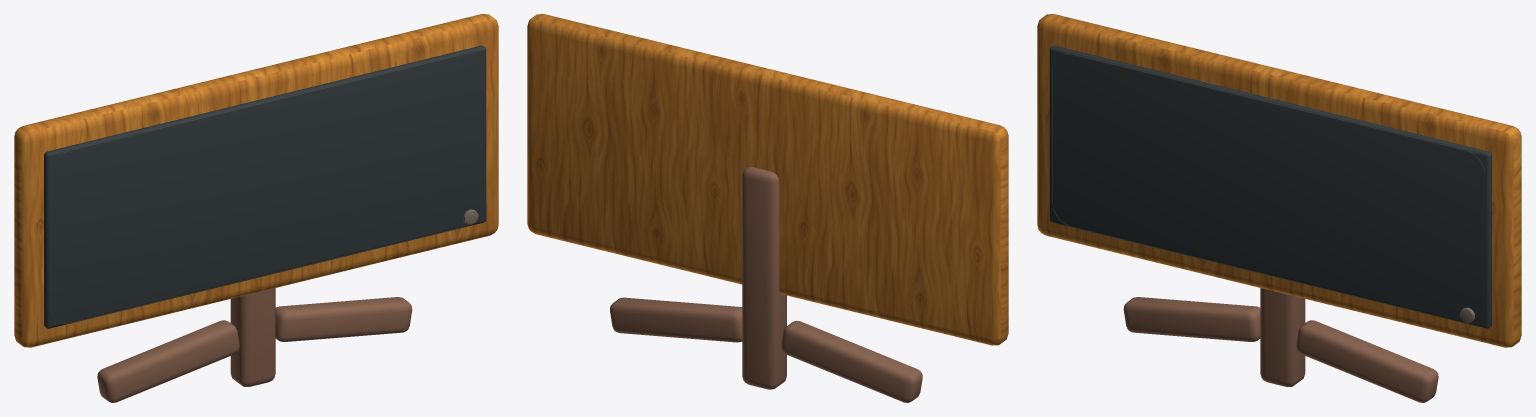
Rendered from slim-tv.glb.
The picture shows the model from 3 angles, left to right: view 1: azimuth 30°, elevation 25°; view 2: azimuth 150°, elevation 25°; view 3: azimuth 330°, elevation 25°; orthographic projection.
Visible parts, largest first — view 1: slim-tv; view 2: slim-tv; view 3: slim-tv.
Boxes of the visible parts, left/top/right/bottom form: slim-tv: left=14, top=14, right=498, bottom=402; slim-tv: left=527, top=14, right=1008, bottom=402; slim-tv: left=1037, top=14, right=1521, bottom=402.
Bounding box in the file's own units: 1.22 × 0.76 × 0.11.
Materials: 6 (1 with a texture image).
